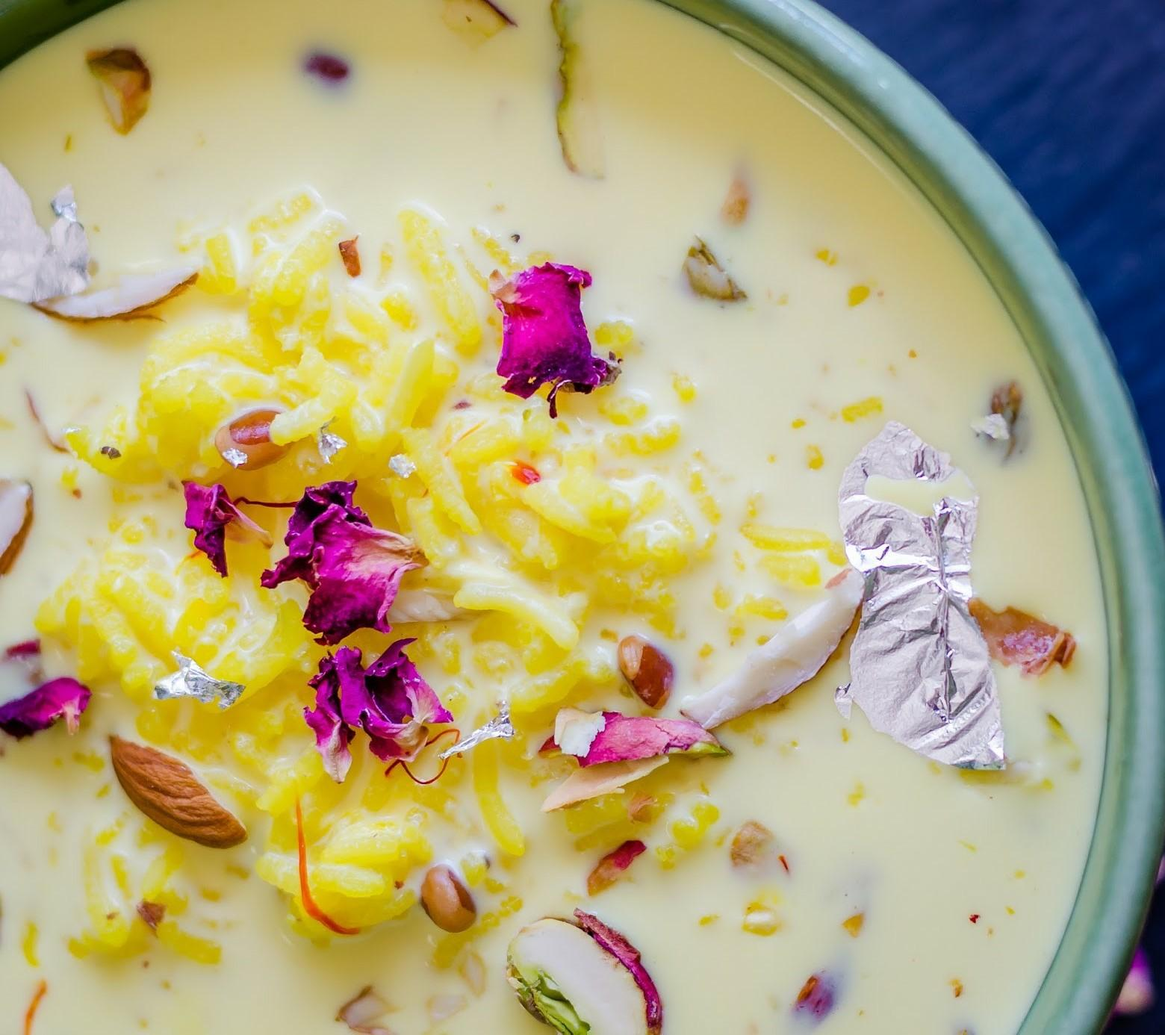Kheer: (0, 0, 1118, 1035)
